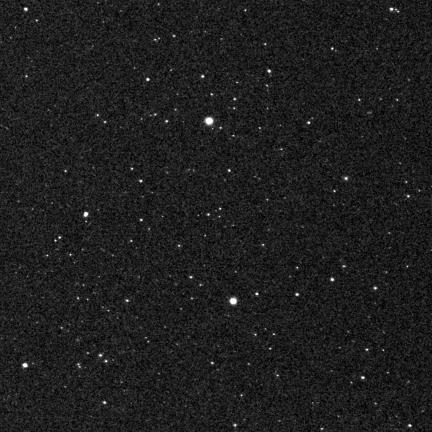blob: (205, 117, 214, 126), (230, 297, 237, 305), (84, 212, 89, 217)
